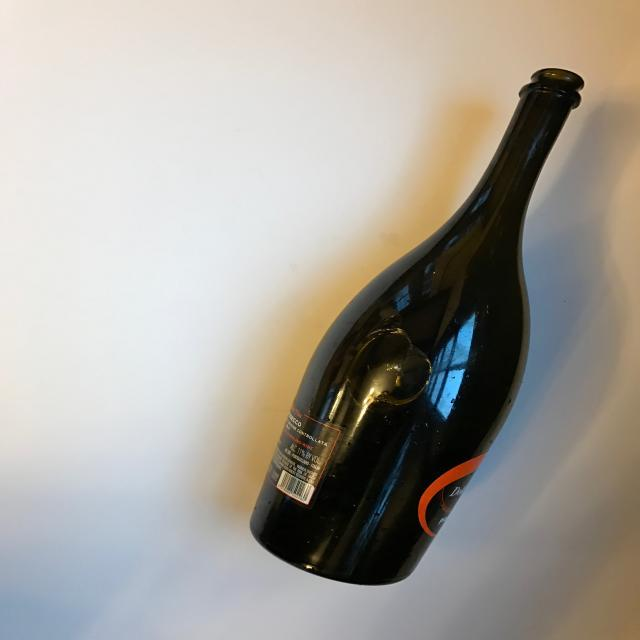glass: (245, 65, 591, 586)
